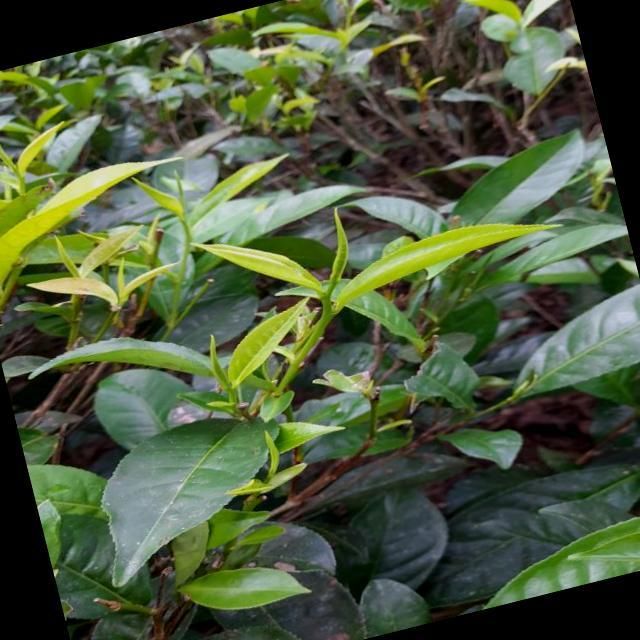Stem: (324, 309, 335, 317), (19, 178, 25, 184), (183, 222, 186, 227)
